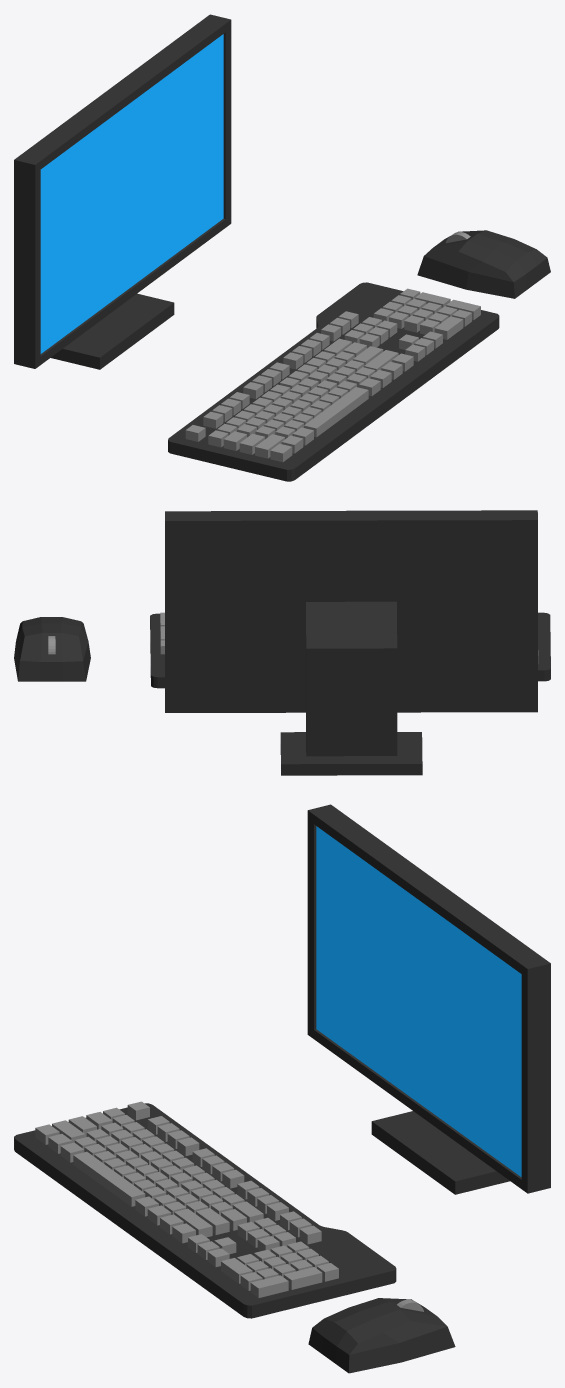
Rendered from desktop.gltf.
3 views of the same model, one above another, from view 1: azimuth 30°, elevation 25°; view 2: azimuth 150°, elevation 25°; view 3: azimuth 270°, elevation 25° (orthographic). The views are drawn at different scales.
Parts seen in each view (by area): view 1: Computer Monitor; view 2: Computer Monitor; view 3: Computer Monitor.
Part boxes in pixels (x1=…): Computer Monitor: x1=14, y1=14, x2=550, y2=481; Computer Monitor: x1=14, y1=510, x2=550, y2=775; Computer Monitor: x1=14, y1=804, x2=550, y2=1373.
Size of the model in its own units: 0.7663 by 0.3375 by 0.5942.
